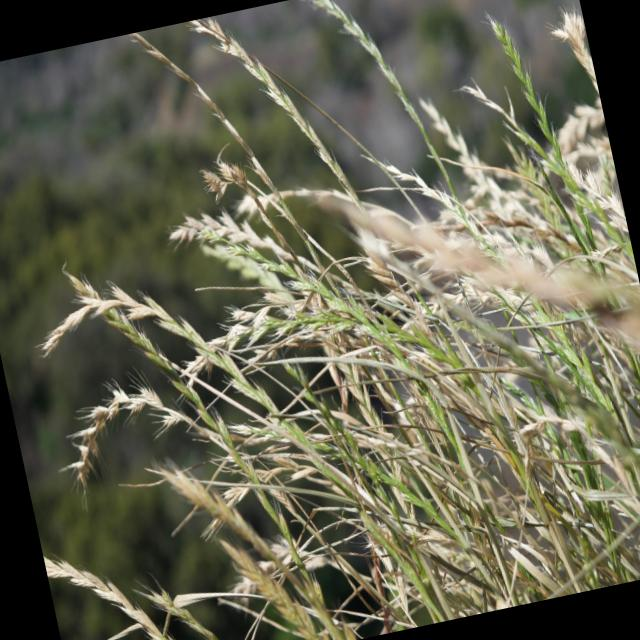Lolium: (0, 0, 640, 640), (163, 129, 640, 640), (40, 220, 407, 640), (136, 2, 358, 366), (489, 0, 635, 281), (207, 1, 372, 248), (309, 0, 470, 243)
